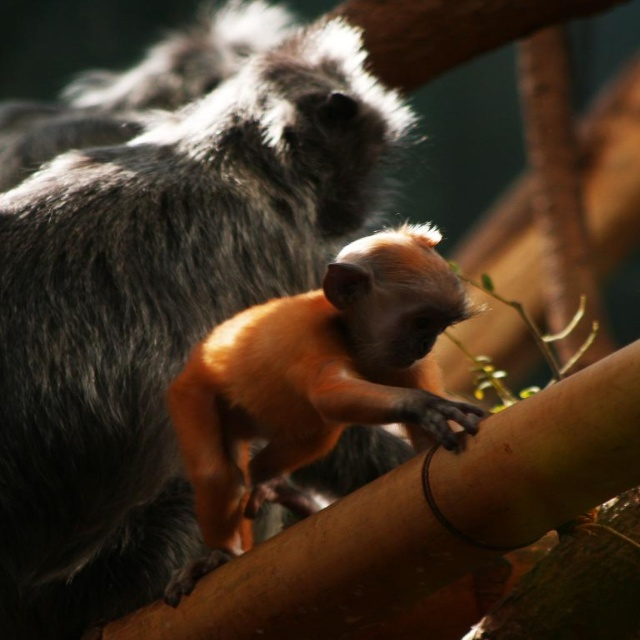Monkey: (160, 218, 517, 608)
